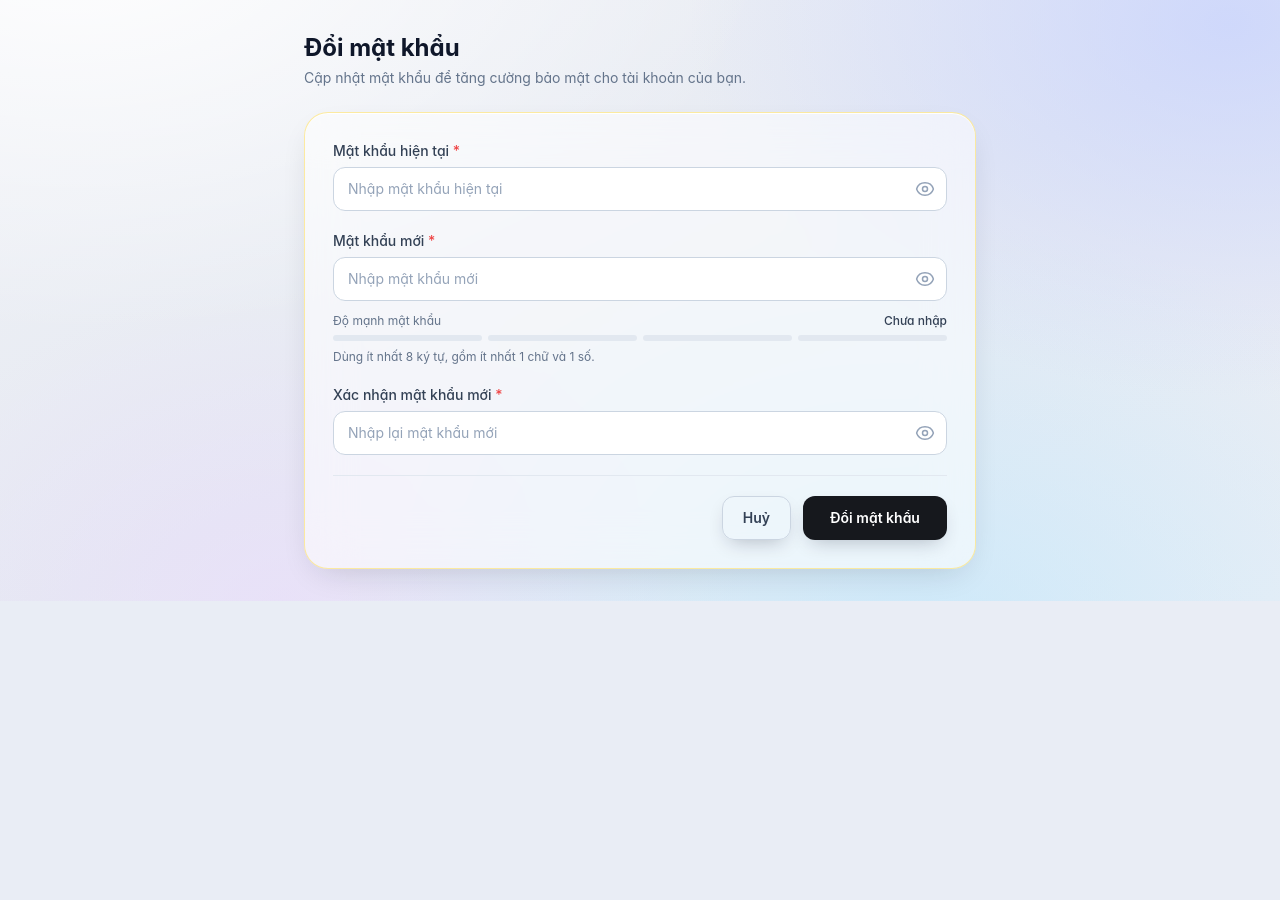
Test: ChangePasswordPage › không gọi API khi xác nhận mật khẩu mới không khớp
This screenshot has width=1280, height=900.
In the password field labelled "Mật khẩu hiện tại *": (640, 189) [333,167,947,211], type "matKhauCu123"
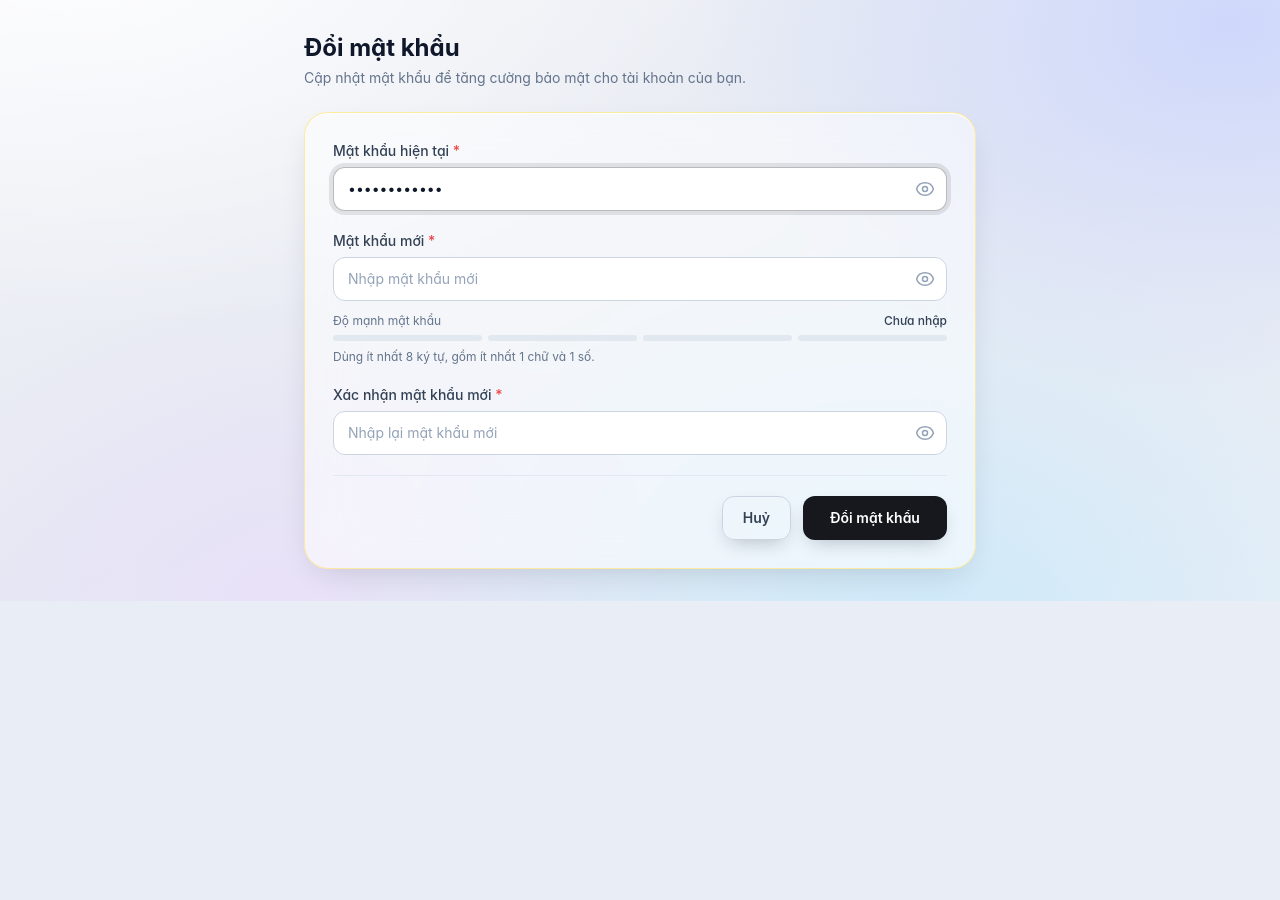
In the password field labelled "Mật khẩu mới *": (640, 279) [333,257,947,301], type "matKhauMoi123"
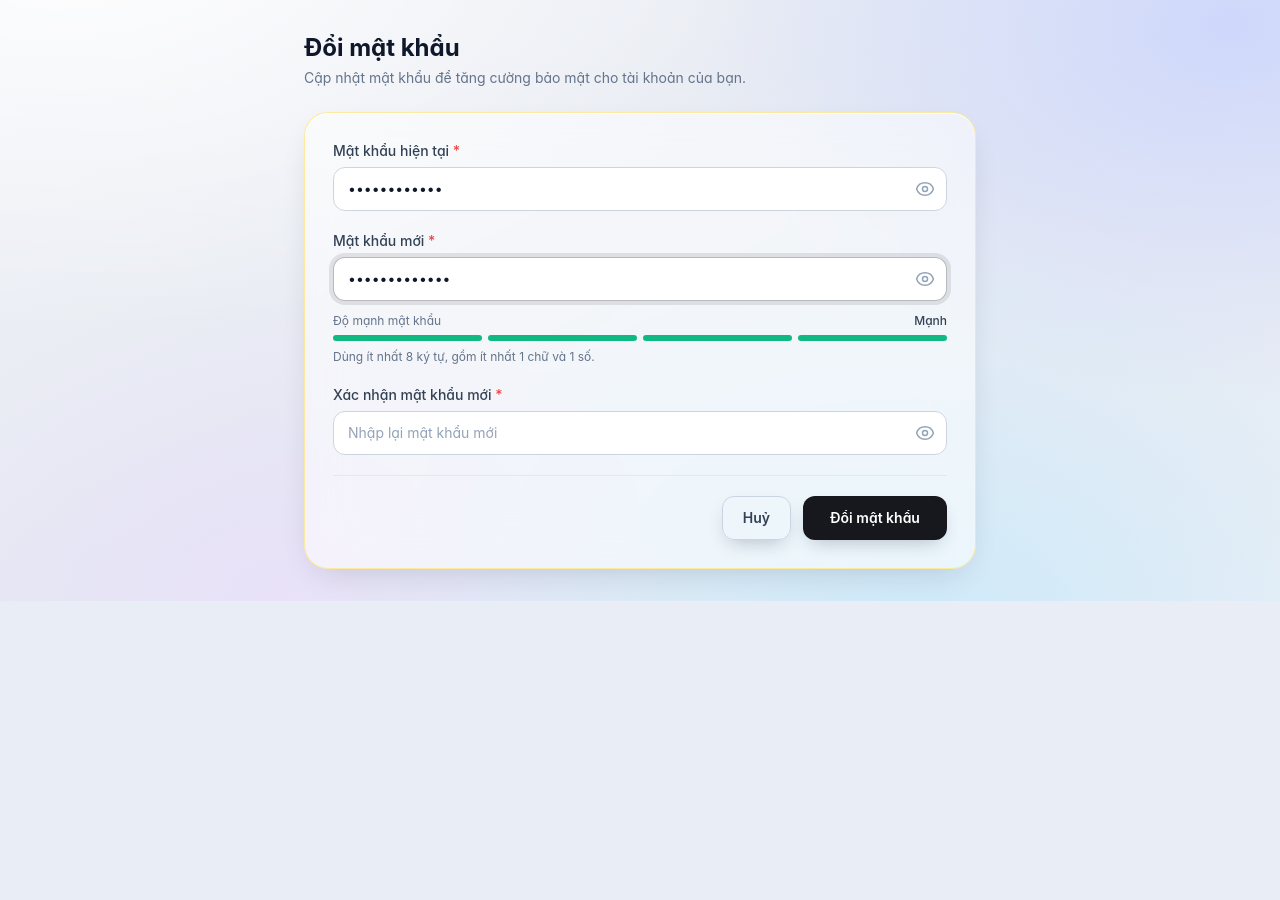
In the password field labelled "Xác nhận mật khẩu mới *": (640, 433) [333,411,947,455], type "khongKhop123"
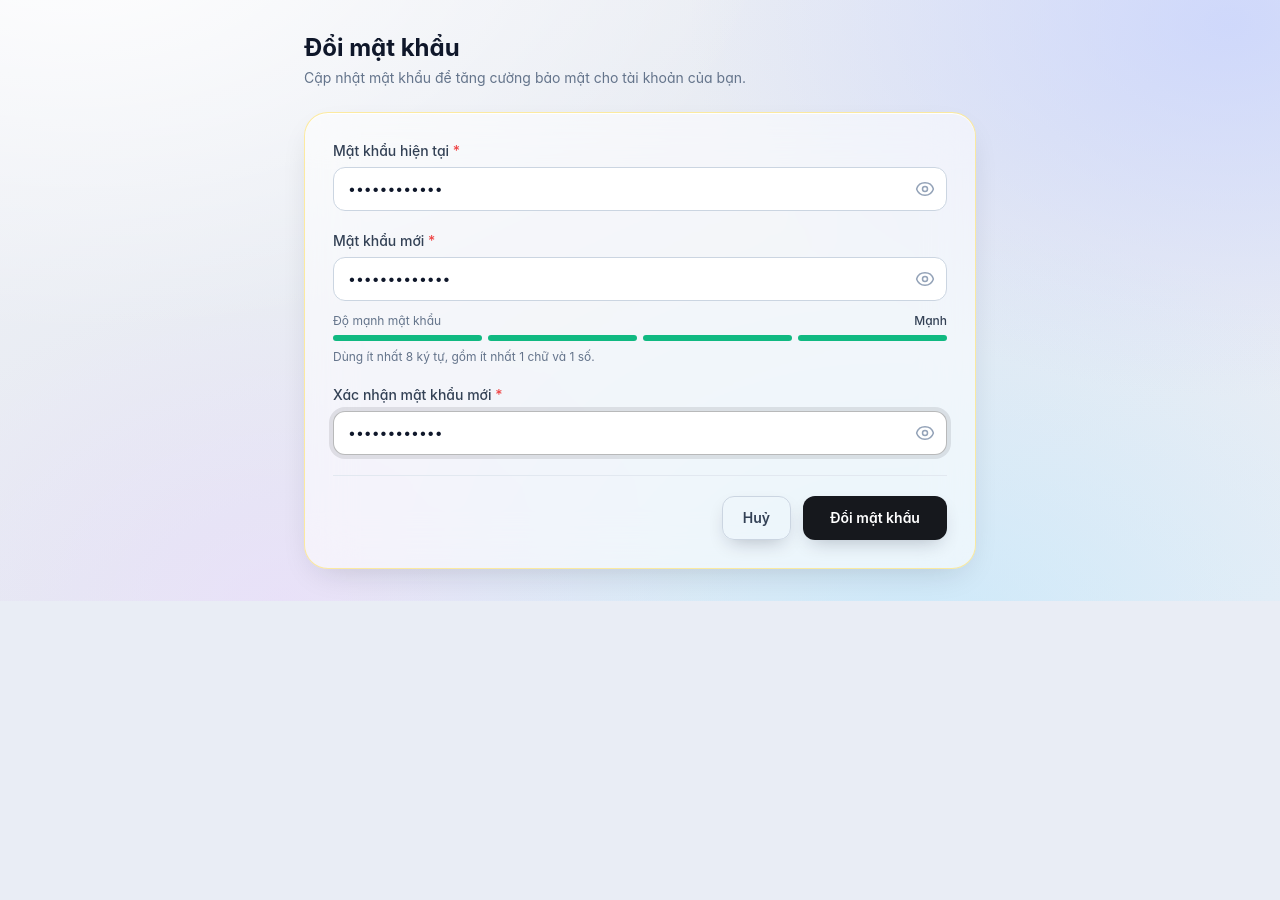
Click the button "Đổi mật khẩu": (875, 518) [803,496,947,540]
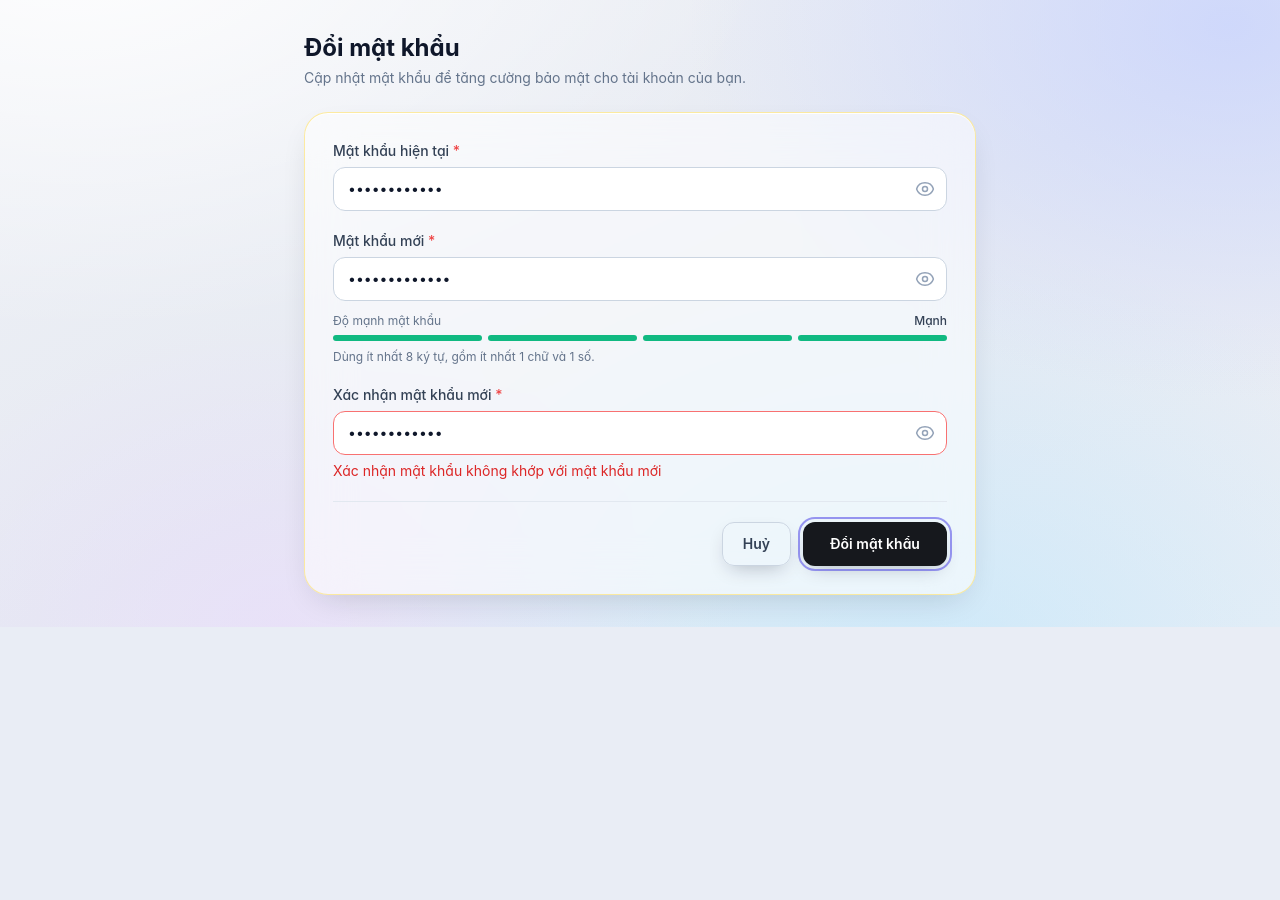
Expected: the text "Xác nhận mật khẩu không khớp với mật khẩu mới" is shown, [333,462,662,479]
